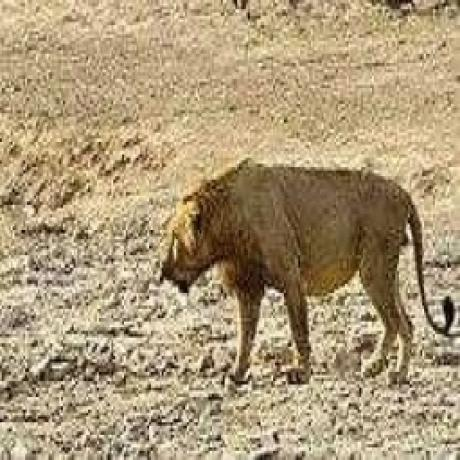Lion: (155, 152, 460, 389)
